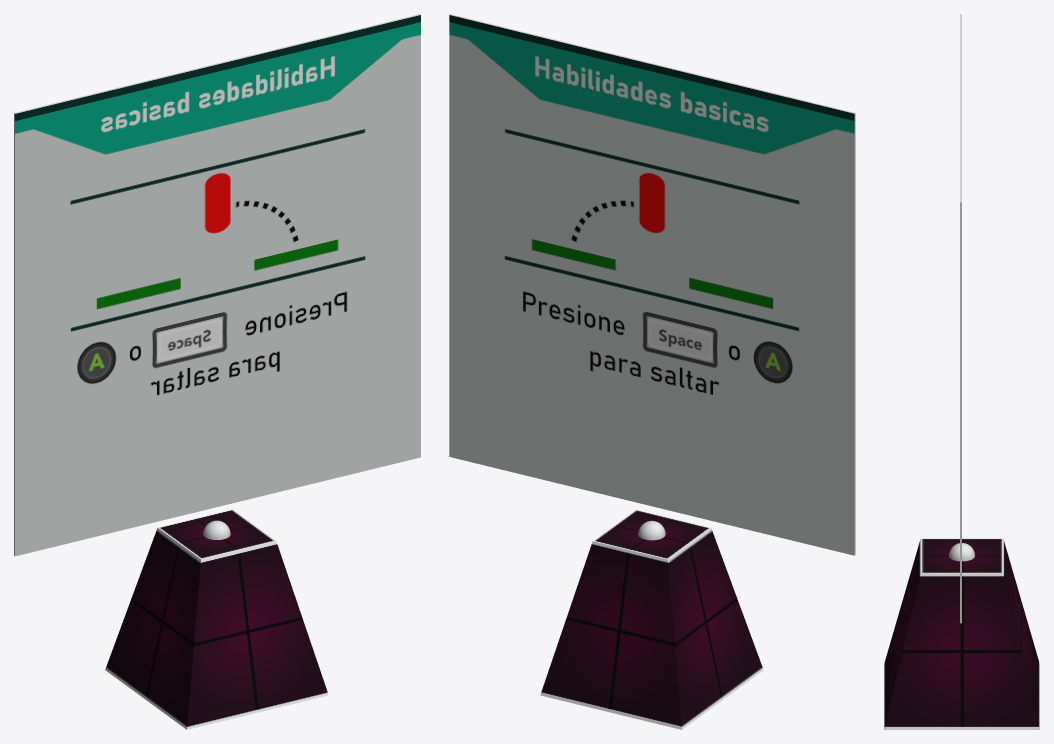
The model's file is Tutorial_projector.fbx.
3 views of the same model, side by side, from view 1: azimuth 30°, elevation 25°; view 2: azimuth 150°, elevation 25°; view 3: azimuth 270°, elevation 25° (orthographic). The views are drawn at different scales.
Visible parts, largest first — view 1: Projector; view 2: Projector; view 3: Projector.
Boxes of the visible parts, x1,y1,x2,y2 form: Projector: (14, 14, 420, 729); Projector: (449, 14, 855, 729); Projector: (884, 14, 1039, 729).
Bounding box in the file's own units: 286 × 417 × 100.
